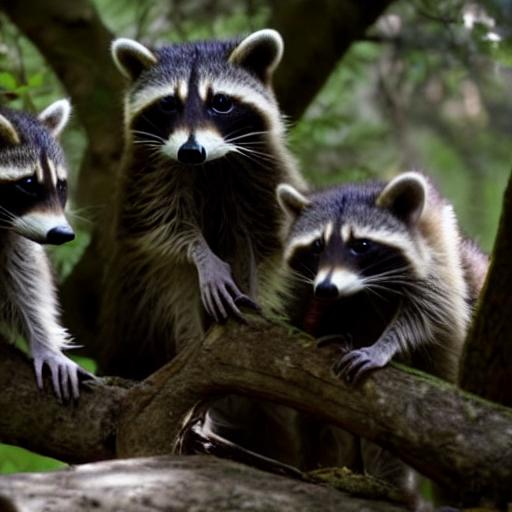raccoon: (108, 25, 315, 322), (263, 169, 494, 385), (0, 91, 90, 365)
